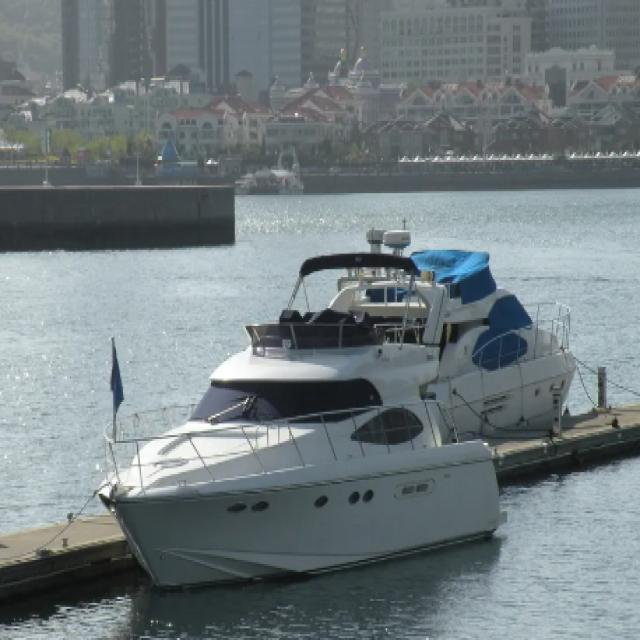houseboat: (96, 253, 499, 584), (349, 228, 574, 431)
